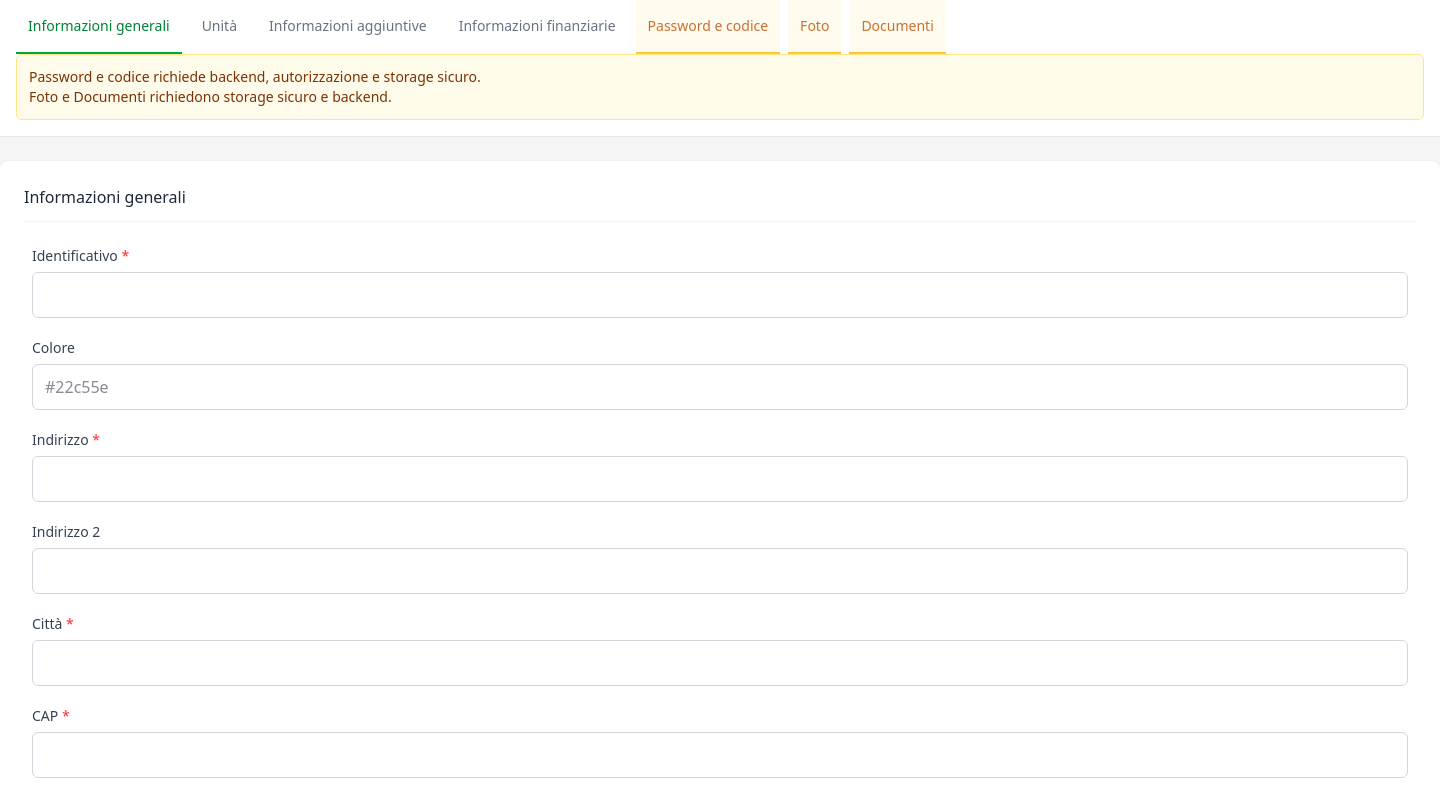
Test case: BuildingForm › rende Unità solo informativa senza azioni
This screenshot has width=1440, height=799.
Click the tab "Unità" at [219, 27], box [190,0,249,54]
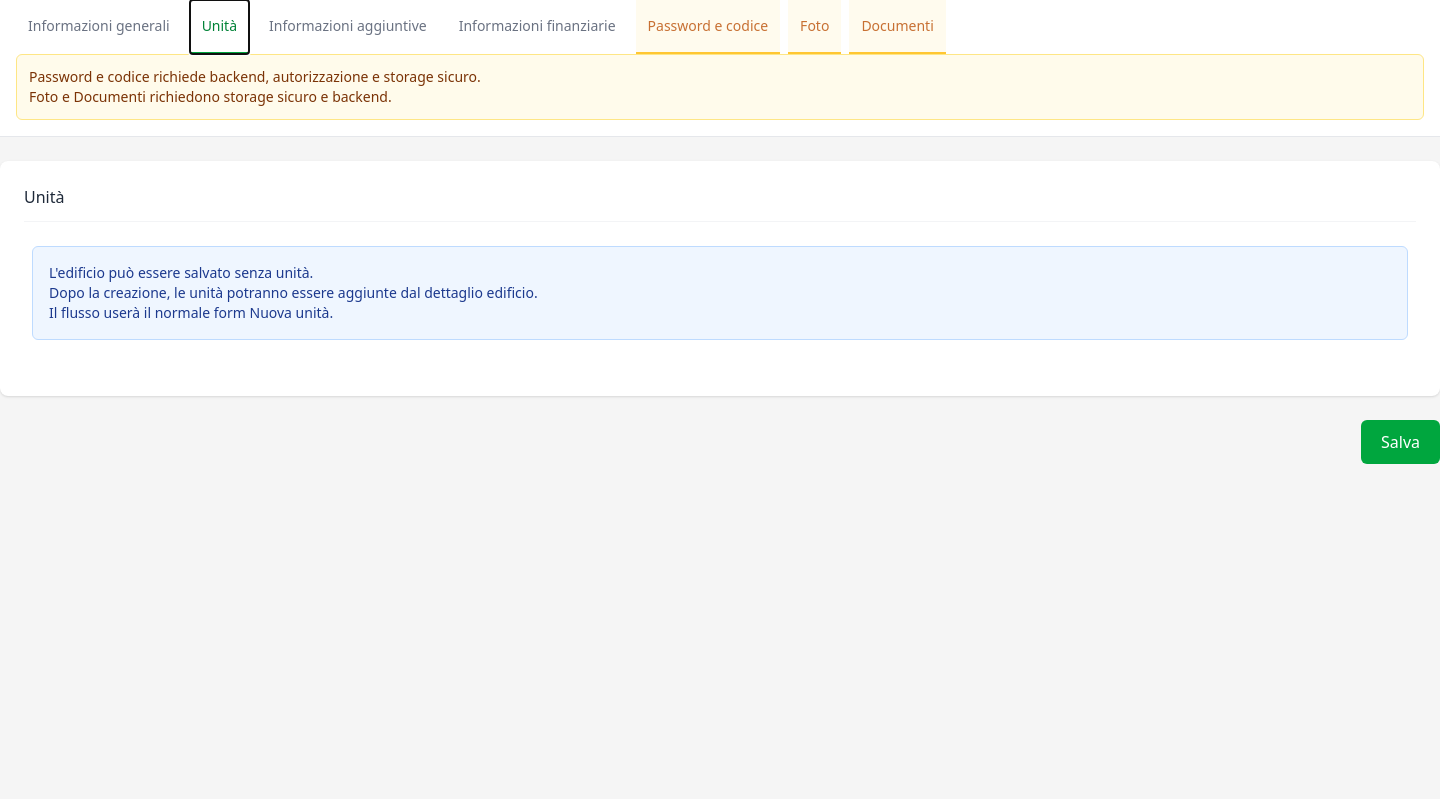
Now the text "L'edificio può essere salvato senza unità." is shown, box [49,263,313,282]
Now the text "Dopo la creazione, le unità potranno essere aggiunte dal dettaglio edificio." is shown, box [49,283,538,302]
Now the text "Il flusso userà il normale form Nuova unità." is shown, box [49,303,333,322]
